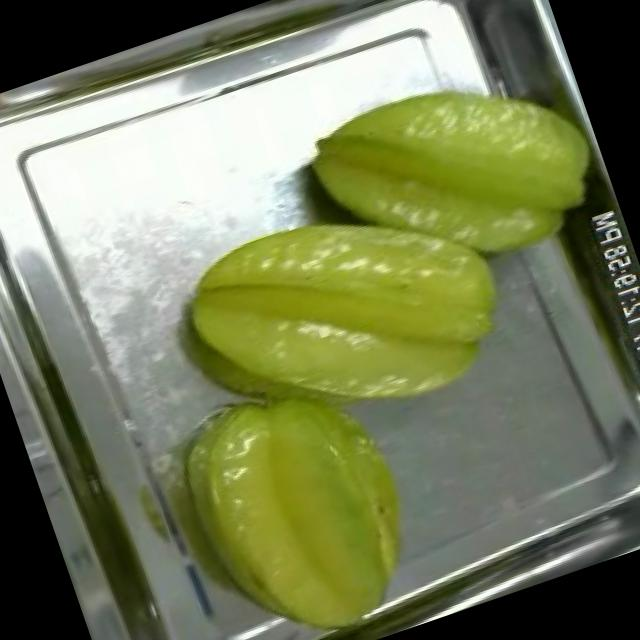fruit: (150, 152, 539, 478), (282, 27, 626, 326), (136, 340, 458, 640)
